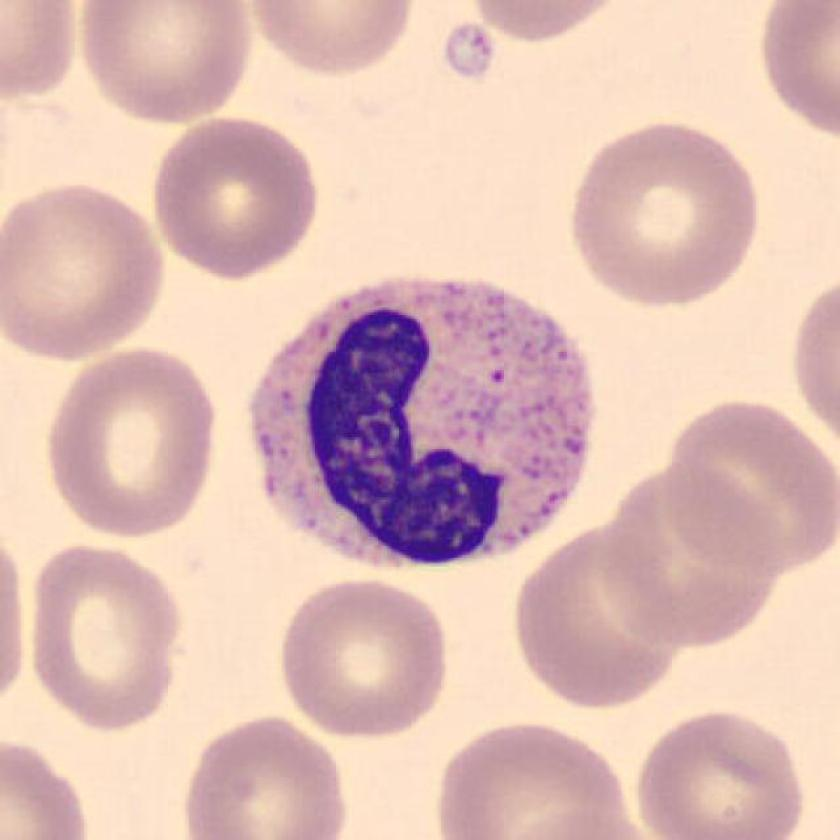neutrophil: (253, 281, 590, 571)
